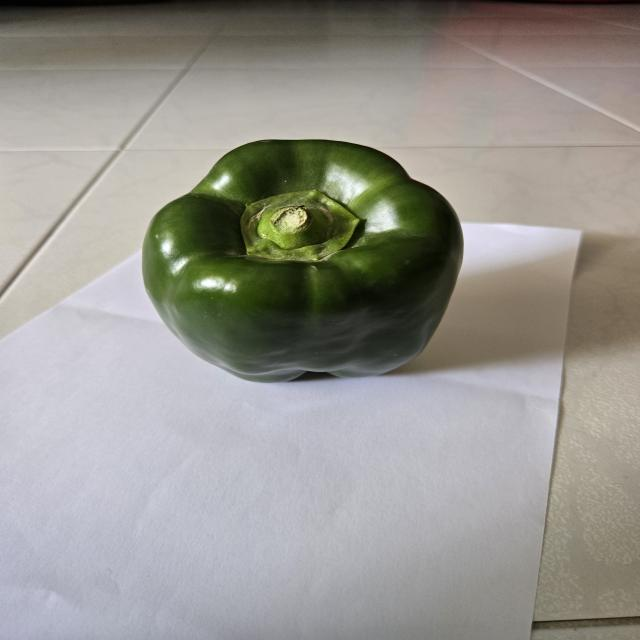bell-pepper: (130, 132, 502, 389)
